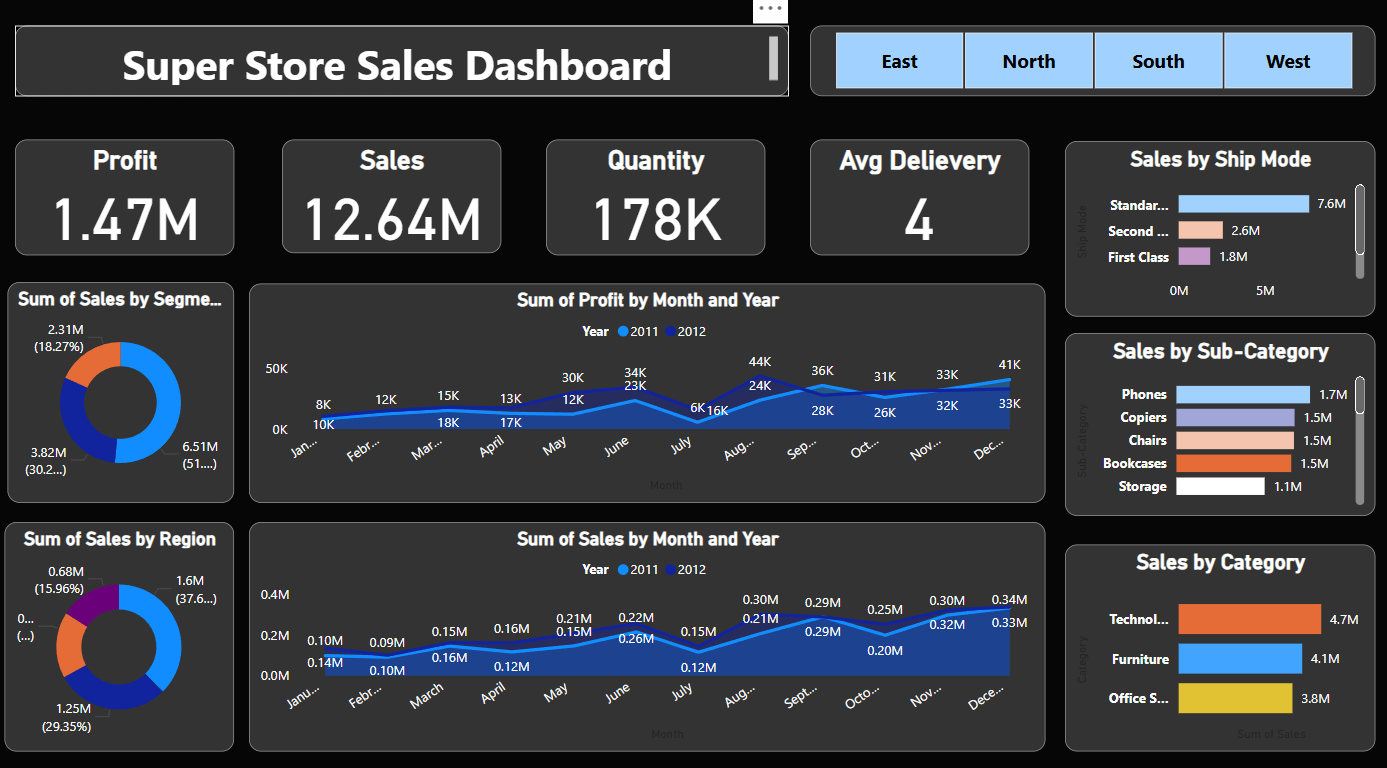

The page's visual inventory and layout, read from the dashboard file:
{"tool":"powerbi","page":{"name":"Page 1","canvas":[1280,720],"ordinal":0},"visuals":[{"type":"card","title":"Profit","fields":{"Values":["Sum(Orders.Profit)"]},"box":[19.2,138.6,200.4,105.7],"z":0},{"type":"card","title":"Sales","fields":{"Values":["Sum(Orders.Sales)"]},"box":[263.5,138.6,200.4,104.3],"z":1000},{"type":"card","title":"Quantity","fields":{"Values":["Sum(Orders.Quantity)"]},"box":[505,138.6,200.4,105.7],"z":2000},{"type":"card","title":"Avg Delievery","fields":{"Values":["Avg(Orders.Ship Days)"]},"box":[746.5,138.6,200.4,105.7],"z":3000},{"type":"donutChart","fields":{"Category":["Orders.Segment"],"Y":["Sum(Orders.Sales)"]},"box":[12.4,269,207.2,201.7],"z":4000},{"type":"donutChart","fields":{"Category":["Orders.Region"],"Y":["Sum(Orders.Sales)"]},"box":[9.6,488.5,210,210],"z":5000},{"type":"areaChart","fields":{"Category":["Orders.Order Date.Variation.Date Hierarchy.Month"],"Y":["Sum(Orders.Profit)"],"Series":["Orders.Order Date.Variation.Date Hierarchy.Year"]},"box":[233.3,270.3,728.7,200.4],"z":6000},{"type":"areaChart","fields":{"Y":["Sum(Orders.Sales)"],"Category":["Orders.Order Date.Variation.Date Hierarchy.Month"],"Series":["Orders.Order Date.Variation.Date Hierarchy.Year"]},"box":[233.3,488.5,728.7,210],"z":7000},{"type":"clusteredBarChart","title":"Sales by Ship Mode","fields":{"Y":["Sum(Orders.Sales)"],"Category":["Orders.Ship Mode"]},"box":[979.8,140,284.1,160.6],"z":8000},{"type":"clusteredBarChart","title":"Sales by Sub-Category","fields":{"Y":["Sum(Orders.Sales)"],"Category":["Orders.Sub-Category"]},"box":[979.8,315.6,284.1,167.4],"z":9000},{"type":"clusteredBarChart","title":"Sales by Category","fields":{"Y":["Sum(Orders.Sales)"],"Category":["Orders.Category"]},"box":[979.8,509.1,284.1,189.4],"z":10000},{"type":"slicer","fields":{"Values":["Orders.Region"]},"box":[746.5,34.3,517.4,64.5],"z":11000},{"type":"textbox","title":"Super Store Sales Dashboard","box":[19.2,34.3,708.1,64.5],"z":12000}]}

Visuals, with their boxes in screenshot pixels (x1, y1, x2, y2), scaled from the page's 1280x720 canvas onto the 1387x768 screenshot:
"Profit" card: x1=21, y1=148, x2=238, y2=261
"Sales" card: x1=286, y1=148, x2=503, y2=259
"Quantity" card: x1=547, y1=148, x2=764, y2=261
"Avg Delievery" card: x1=809, y1=148, x2=1026, y2=261
donutChart - Orders.Segment x Sum(Orders.Sales): x1=13, y1=287, x2=238, y2=502
donutChart - Orders.Region x Sum(Orders.Sales): x1=10, y1=521, x2=238, y2=745
areaChart - Orders.Order Date.Variation.Date Hierarchy.Month x Sum(Orders.Profit): x1=253, y1=288, x2=1042, y2=502
areaChart - Sum(Orders.Sales) x Orders.Order Date.Variation.Date Hierarchy.Month: x1=253, y1=521, x2=1042, y2=745
"Sales by Ship Mode" clusteredBarChart: x1=1062, y1=149, x2=1370, y2=321
"Sales by Sub-Category" clusteredBarChart: x1=1062, y1=337, x2=1370, y2=515
"Sales by Category" clusteredBarChart: x1=1062, y1=543, x2=1370, y2=745
slicer - Orders.Region: x1=809, y1=37, x2=1370, y2=105
"Super Store Sales Dashboard" textbox: x1=21, y1=37, x2=788, y2=105
